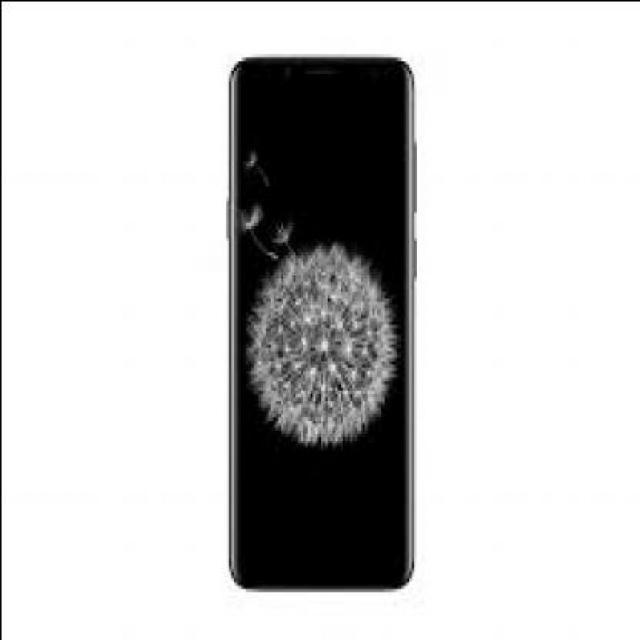fake: (224, 52, 420, 591)
